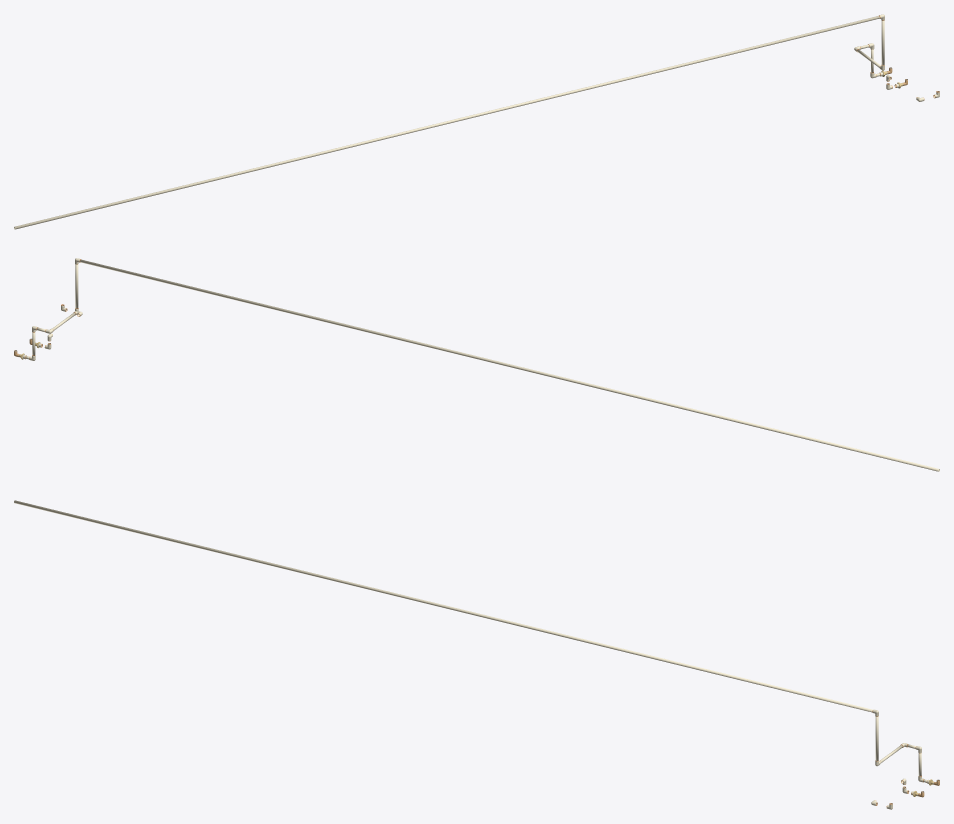
Rendered from pipes_supply__softener-yes_and_plumbing-cpvc.glb.
3 views of the same model, one above another, from view 1: azimuth 30°, elevation 25°; view 2: azimuth 150°, elevation 25°; view 3: azimuth 330°, elevation 25° (orthographic).
Parts seen in each view (by area): view 1: pipe_supply_from_softener; view 2: pipe_supply_from_softener; view 3: pipe_supply_from_softener.
Part boxes in pixels (x1,y1,x2,y2): pipe_supply_from_softener: [14, 16, 884, 229]; pipe_supply_from_softener: [25, 259, 939, 471]; pipe_supply_from_softener: [14, 500, 927, 782].
Size of the model in its own units: 7.92 by 0.7375 by 0.7582.
